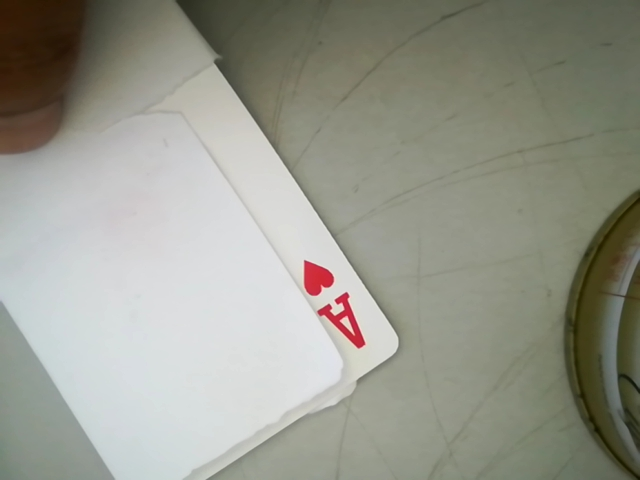hx a: (290, 251, 371, 356)
